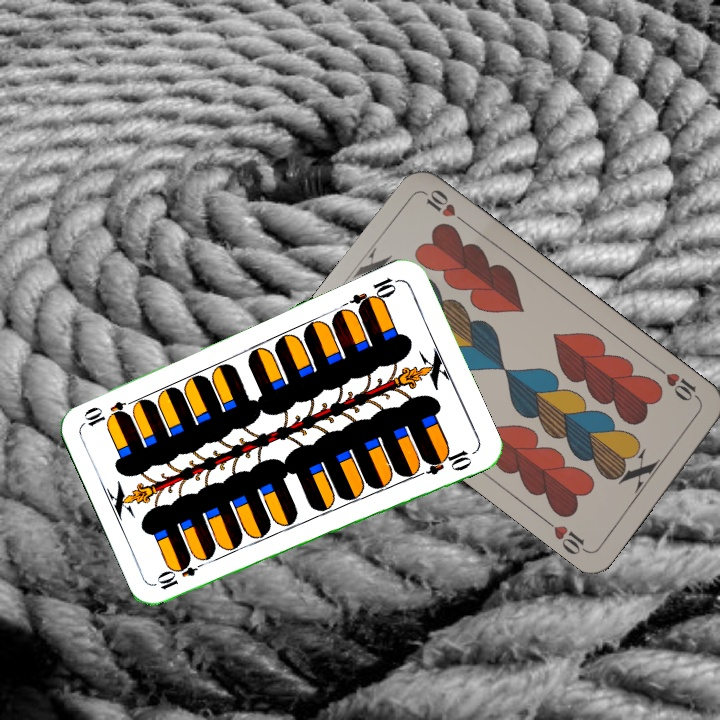E10: (346, 273, 402, 314), (154, 557, 210, 593)
H10: (653, 363, 703, 404)
